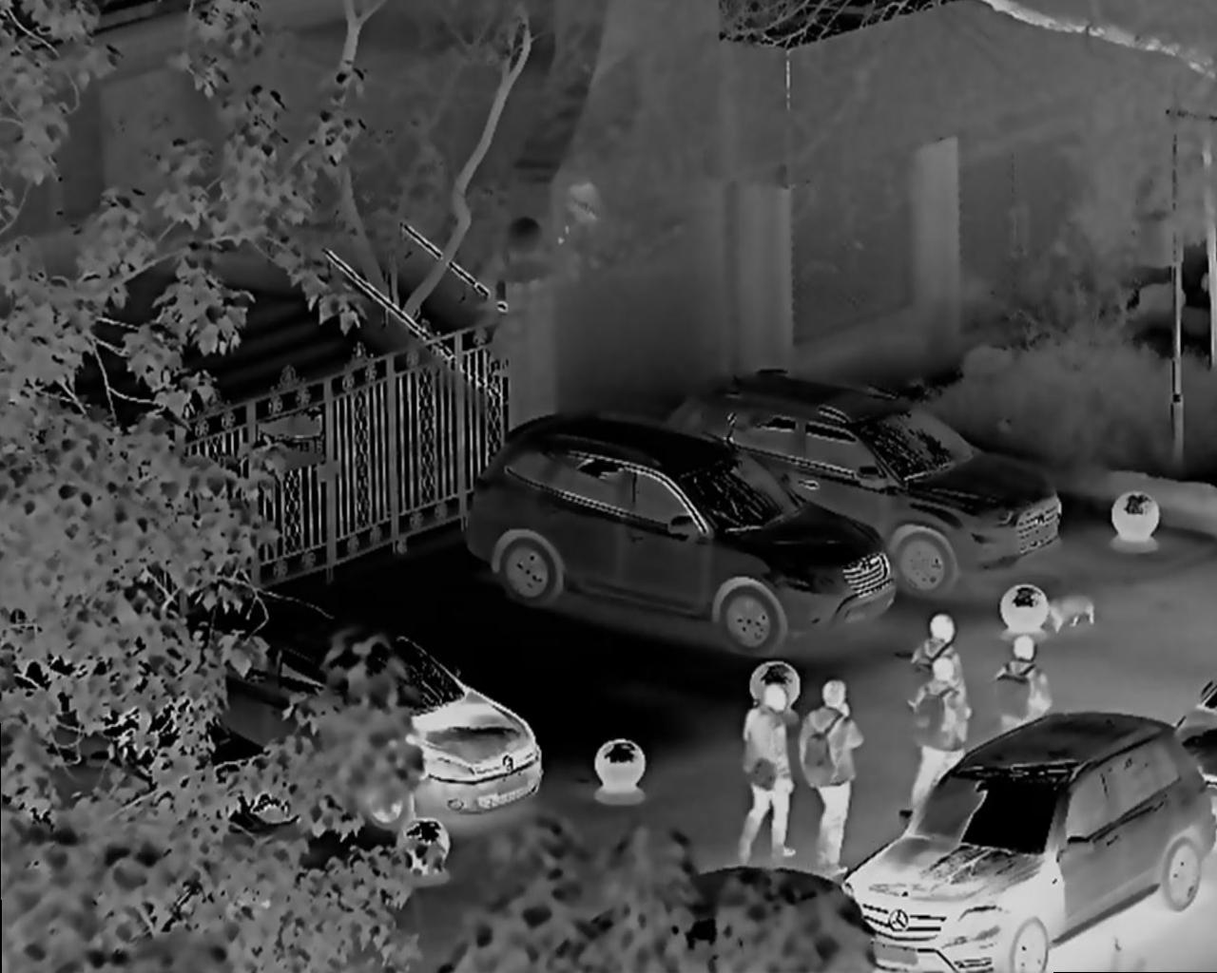person: (797, 662, 867, 866), (734, 678, 795, 868), (918, 652, 969, 804), (993, 626, 1055, 743), (919, 612, 951, 668)
